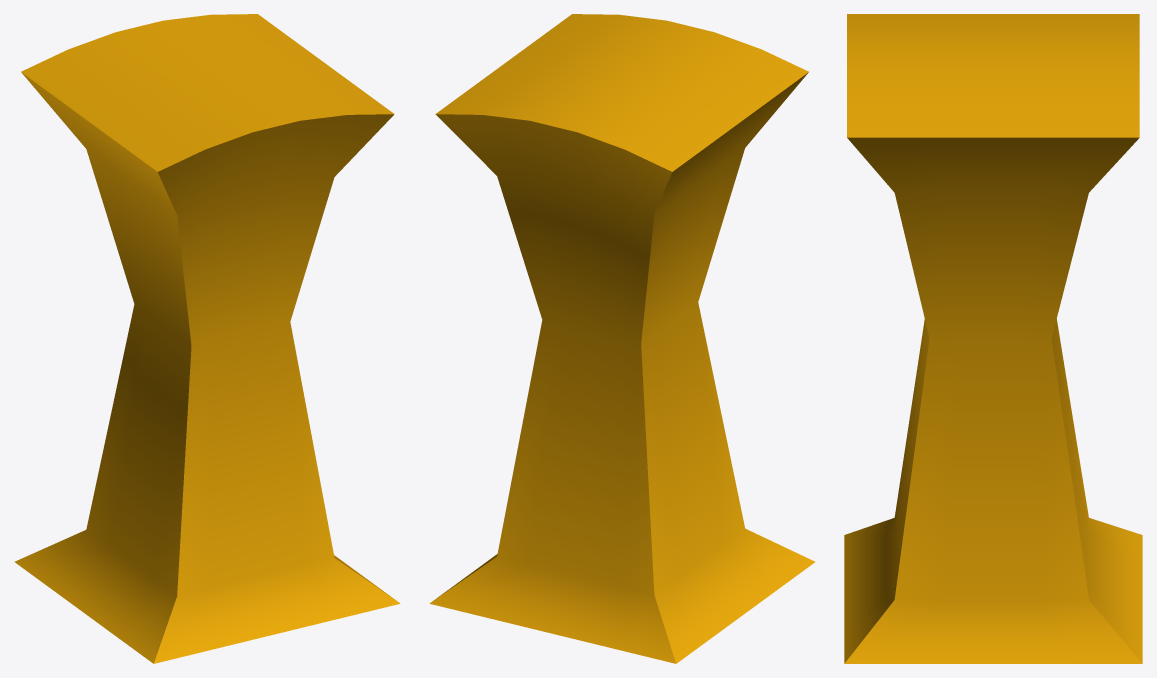
The model's file is 14mTrack_Blockout_Pillar.fbx.
3 views of the same model, side by side, from view 1: azimuth 30°, elevation 25°; view 2: azimuth 150°, elevation 25°; view 3: azimuth 270°, elevation 25° (orthographic). The views are drawn at different scales.
Parts seen in each view (by area): view 1: pCube41; view 2: pCube41; view 3: pCube41.
Part boxes in pixels (box(x1,y1,x2,y2)): pCube41: box(14, 14, 400, 663); pCube41: box(429, 14, 815, 663); pCube41: box(844, 14, 1142, 663).
Size of the model in its own units: 314 by 615 by 307.
